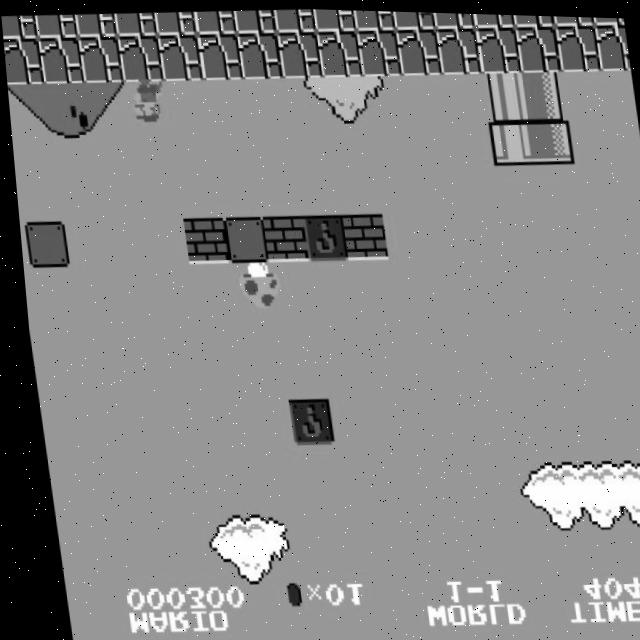1- brick_block: (258, 213, 305, 262), (179, 215, 225, 264), (338, 211, 384, 260)
11- little_mario: (121, 76, 171, 128)
12- mushroom: (229, 260, 278, 311)
13- mystery_block: (298, 212, 344, 261), (281, 396, 327, 444)
14- pipe: (481, 69, 527, 118), (520, 68, 566, 117)
15- pipe_head: (486, 115, 532, 164), (526, 113, 572, 162)
17- undestructible_block: (156, 32, 203, 81), (196, 31, 243, 80), (315, 28, 362, 77), (355, 26, 402, 75), (37, 36, 83, 85), (77, 35, 123, 84), (117, 34, 163, 83), (236, 30, 282, 79), (276, 29, 322, 78), (395, 25, 441, 74), (435, 24, 481, 73), (475, 23, 521, 72), (515, 22, 561, 71), (555, 20, 601, 69), (3, 37, 43, 86), (594, 20, 630, 69), (34, 13, 78, 39), (153, 10, 197, 36), (193, 8, 237, 34), (233, 7, 277, 33), (273, 6, 317, 32), (74, 12, 117, 38), (114, 11, 157, 37), (313, 7, 357, 31), (1, 14, 38, 40), (353, 8, 396, 30), (392, 9, 435, 28), (432, 10, 475, 27), (472, 11, 515, 26), (512, 12, 555, 25), (552, 13, 595, 24), (593, 14, 625, 23)
3- empty_block: (19, 220, 66, 269), (219, 214, 265, 263)
